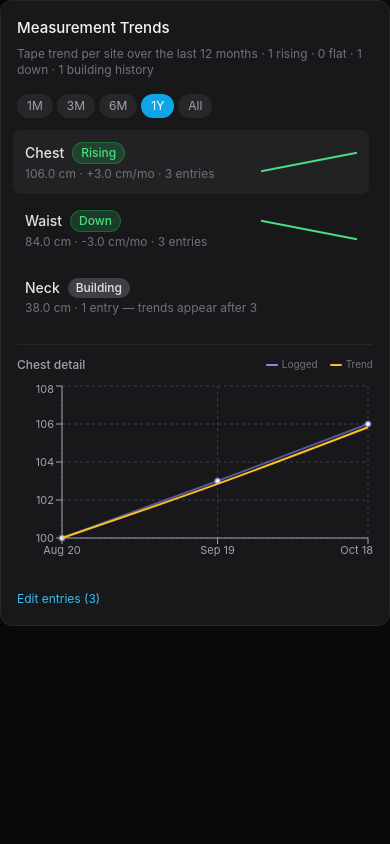
Test case: MeasurementTrendCard date ranges › lists each measured site with a direction badge and rate
Expected: the option with test id "measurement-trend-row-chest" shows "Chest", [13,130,369,194]
Expected: the option with test id "measurement-trend-row-chest" shows "Rising", [13,130,369,194]
# Tapping a row selects it for the detail chart.
Click the option with test id "measurement-trend-row-waist".
click(44, 220)  # box [13,198,369,262]
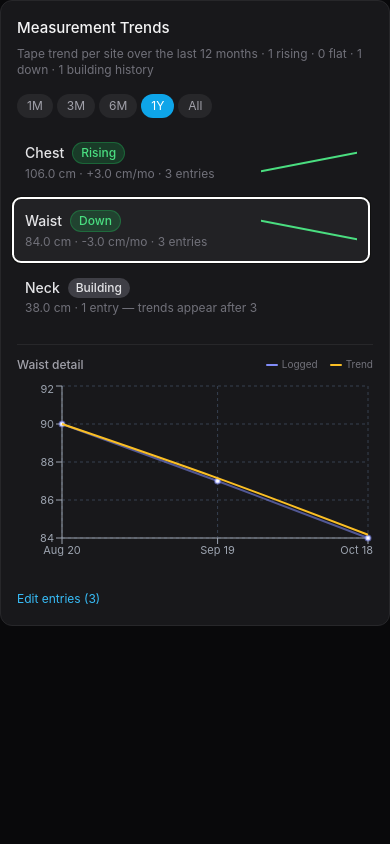
Expected: the text "Waist detail" is shown, [17,356,84,372]
